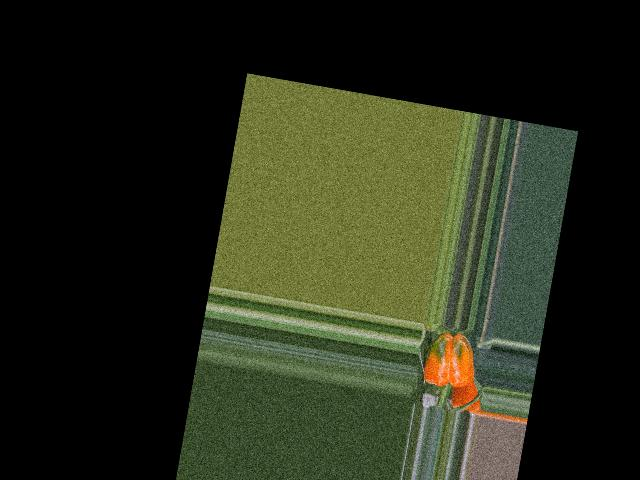bell_pepper: (414, 323, 483, 398)
